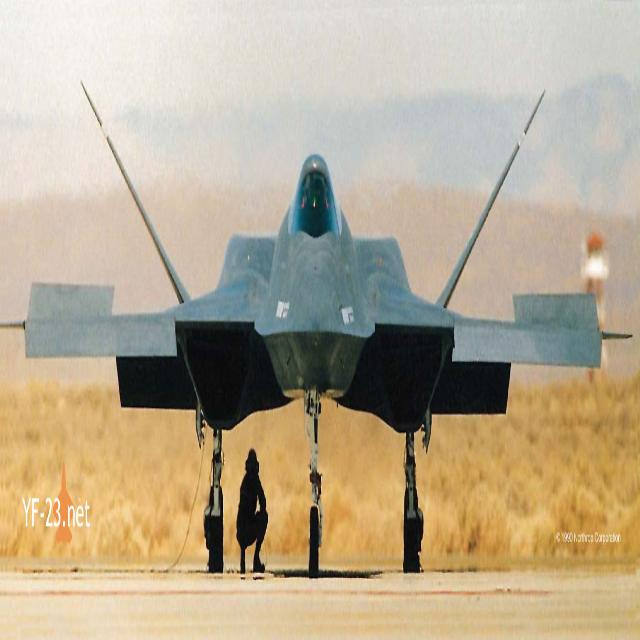MIL_Plane: (0, 79, 632, 572)
